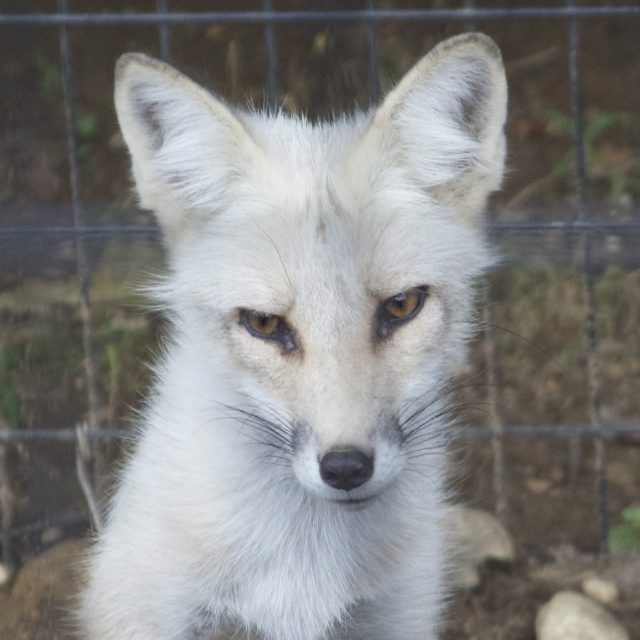Fox: (57, 31, 565, 640)
